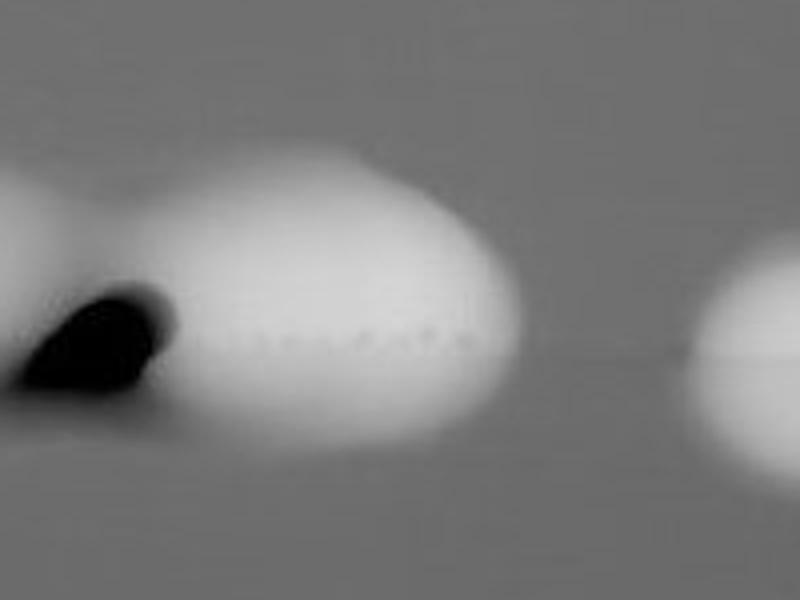defect: (15, 290, 156, 403)
